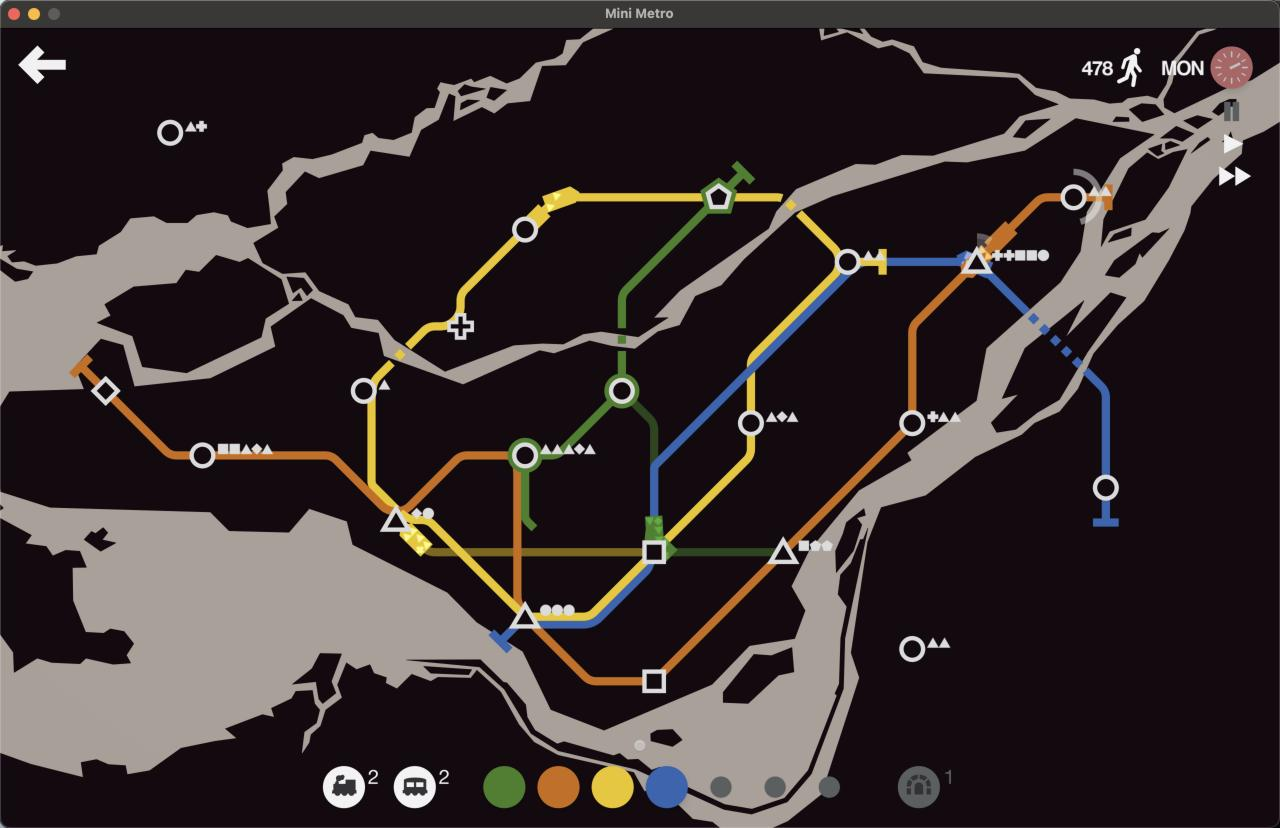CIRCLE: (605, 373, 639, 408), (508, 438, 542, 472), (898, 409, 927, 437), (1060, 183, 1088, 212), (1092, 473, 1120, 502), (898, 635, 927, 663), (188, 441, 216, 469), (511, 216, 540, 243), (156, 119, 184, 146), (350, 378, 377, 405), (835, 248, 861, 275), (738, 410, 765, 436)
CROSS: (447, 312, 475, 340)
GEM: (90, 376, 122, 406)
PENTAGON: (700, 179, 736, 214)
SQUARE: (641, 668, 667, 695), (642, 539, 668, 564)
TRIANGLE: (960, 244, 995, 275), (509, 600, 540, 632), (767, 536, 800, 565), (380, 504, 411, 533), (1223, 134, 1243, 155)
